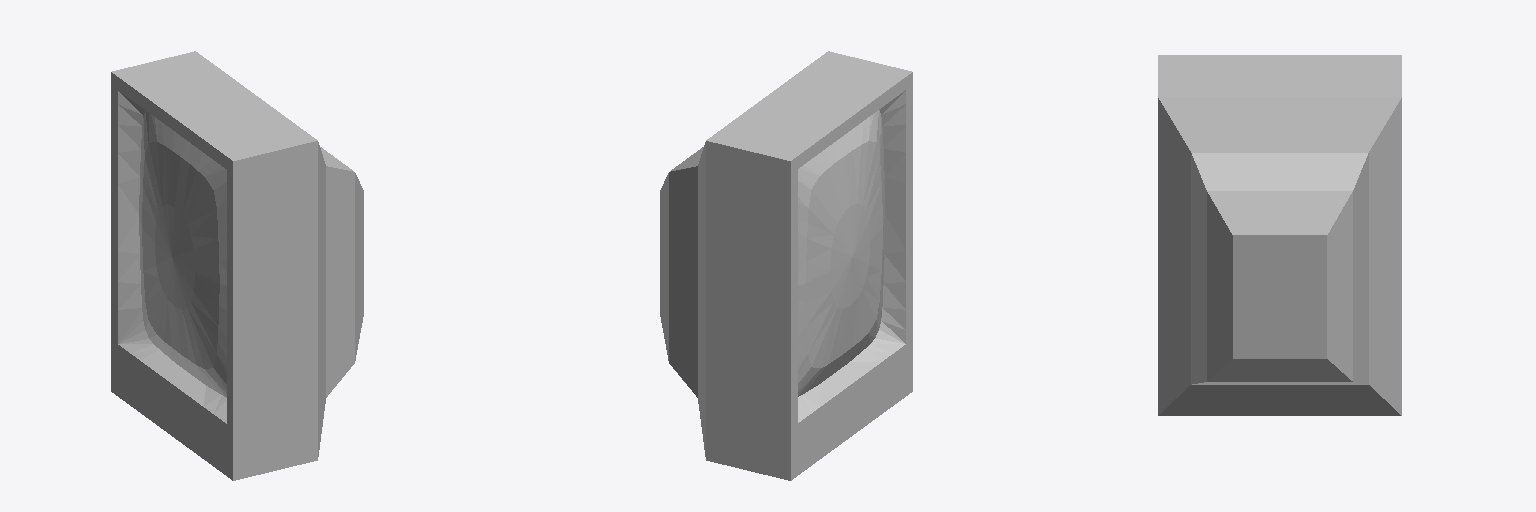
3 views of the same model, side by side, from view 1: azimuth 30°, elevation 25°; view 2: azimuth 150°, elevation 25°; view 3: azimuth 270°, elevation 25° (orthographic).
Visible parts, largest first — view 1: tv11, tv10, tv12; view 2: tv11, tv10, tv12; view 3: tv12, tv11.
Part boxes in pixels (x1,y1,x2,y2): tv11: (111, 51, 317, 480); tv10: (139, 110, 226, 397); tv12: (318, 142, 363, 456); tv11: (706, 51, 912, 480); tv10: (798, 110, 884, 396); tv12: (660, 142, 705, 456); tv12: (1158, 97, 1401, 415); tv11: (1158, 55, 1401, 96).
Bounding box in the file's own units: 23.84 × 43.23 × 29.99.